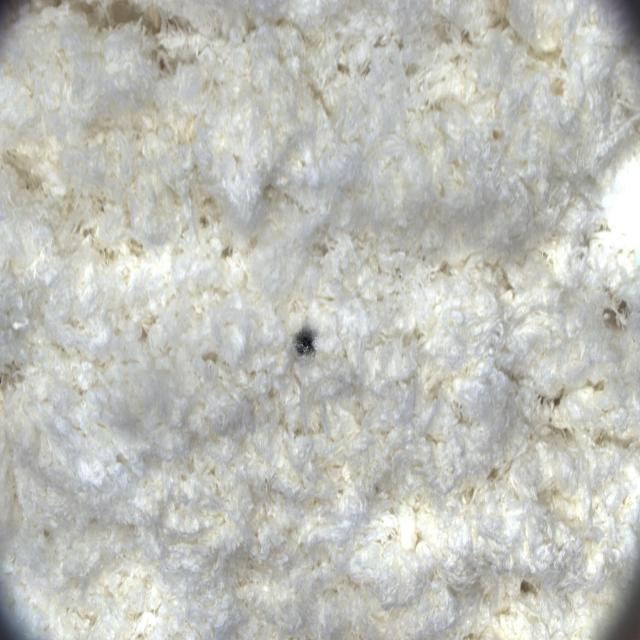dust: (284, 306, 331, 380)
